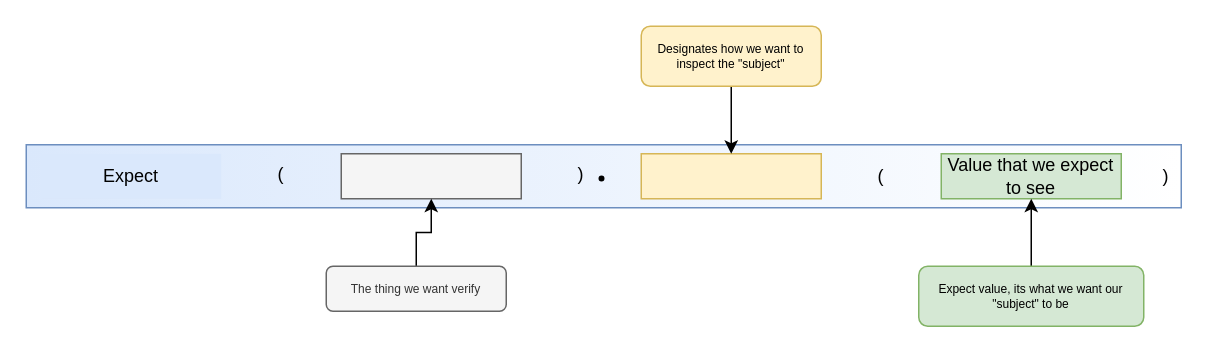
The diagram is 1208 pixels wide and 353 high, and some of its shapes have lost their labels. Each missing label, with the centre of its shape:
"Matcher statement" goes at point (730, 175).
"Value that we are expecting" goes at point (430, 175).
